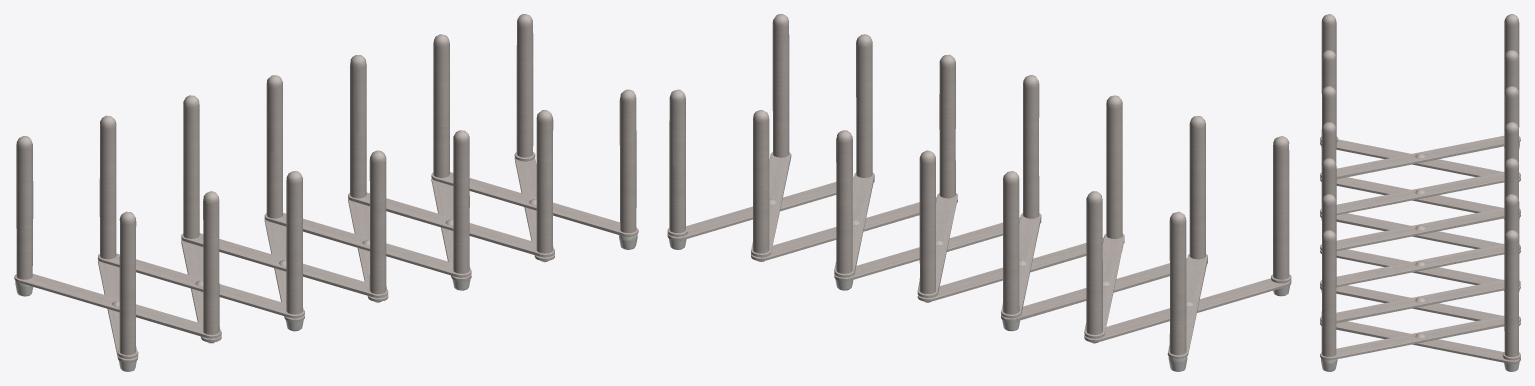
File: variera_przegroda_na_pokrywki_70154800.glb
The picture shows the model from 3 angles, left to right: view 1: azimuth 30°, elevation 25°; view 2: azimuth 150°, elevation 25°; view 3: azimuth 270°, elevation 25°; orthographic projection. The views are drawn at different scales.
Parts seen in each view (by area): view 1: variera_przegroda_na_pokrywki_70154800; view 2: variera_przegroda_na_pokrywki_70154800; view 3: variera_przegroda_na_pokrywki_70154800.
Part boxes in pixels (x1,y1,x2,y2): variera_przegroda_na_pokrywki_70154800: (14, 14, 638, 371); variera_przegroda_na_pokrywki_70154800: (667, 14, 1291, 371); variera_przegroda_na_pokrywki_70154800: (1320, 14, 1520, 371).
Bounding box in the file's own units: 0.3493 × 0.1014 × 0.1326.
Materials: 1 (1 with a texture image).
